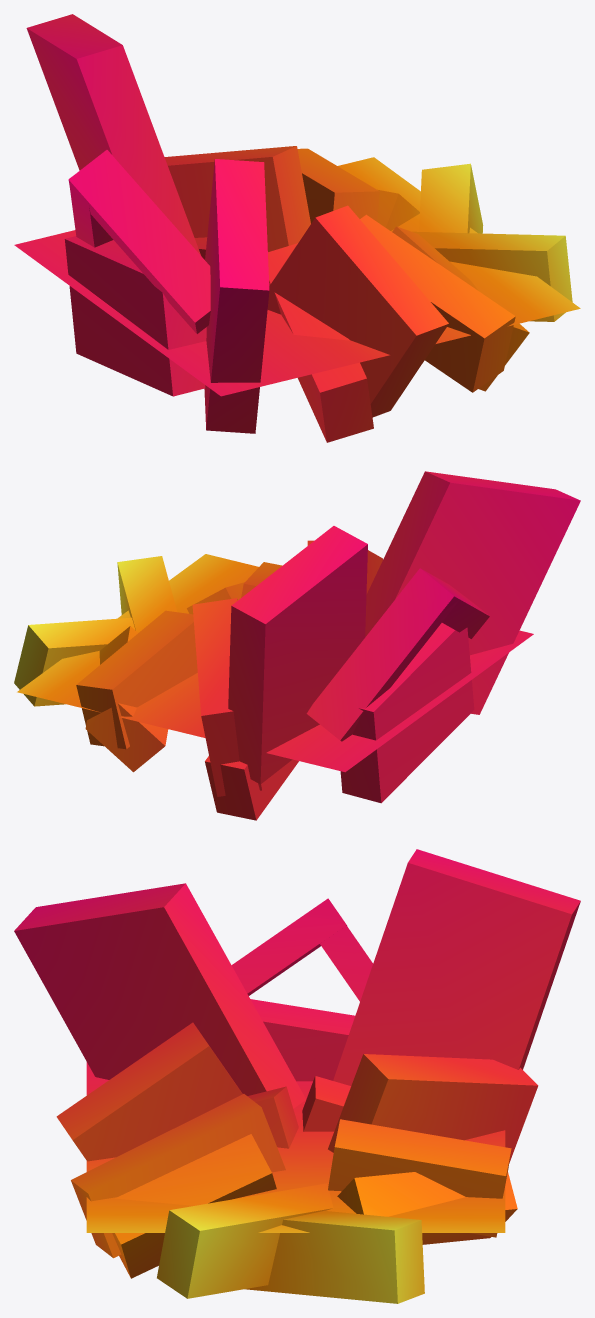
The model's file is lvl_gra_2.fbx.
3 renders of one model, top to bottom at view 1: azimuth 30°, elevation 25°; view 2: azimuth 150°, elevation 25°; view 3: azimuth 270°, elevation 25°, orthographic. The views are drawn at different scales.
Parts seen in each view (by area): view 1: lev_gra_2; view 2: lev_gra_2; view 3: lev_gra_2.
Part boxes in pixels (<box>): lev_gra_2: <box>14,14,580,442</box>; lev_gra_2: <box>14,471,580,820</box>; lev_gra_2: <box>14,849,580,1303</box>.
Bounding box in the file's own units: 28463 × 18705 × 30820.
1 material, 1 textured.
